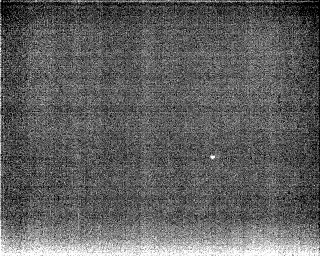AIRPLANE: (208, 152, 217, 162)
